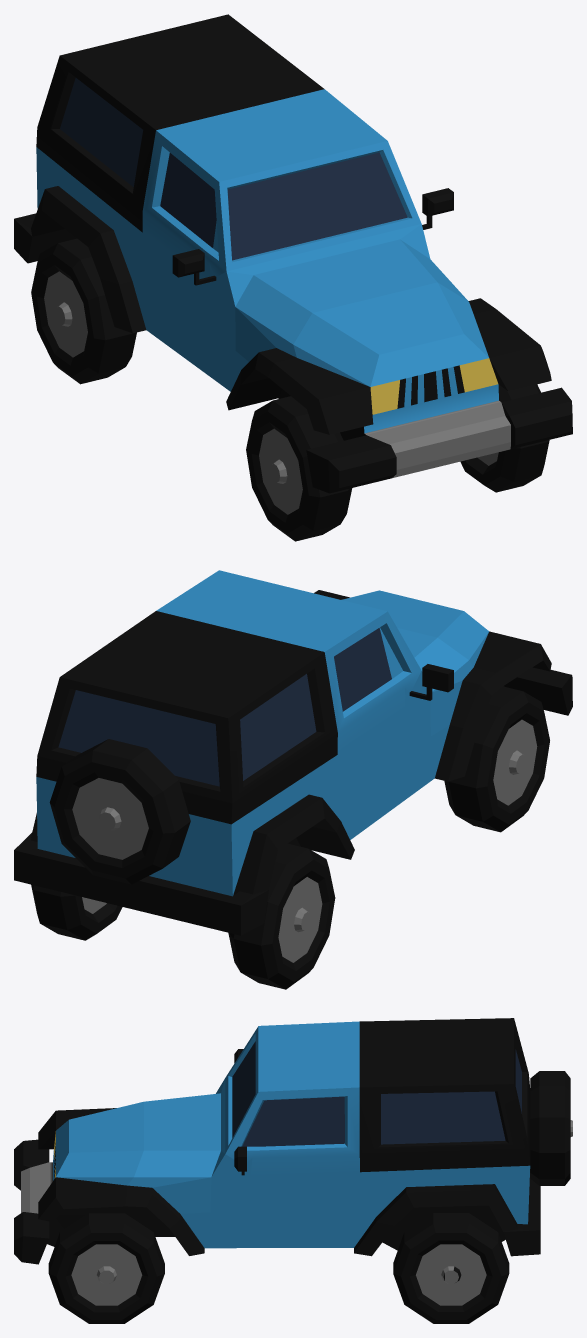
File: jeep.glb
3 views of the same model, one above another, from view 1: azimuth 30°, elevation 25°; view 2: azimuth 150°, elevation 25°; view 3: azimuth 270°, elevation 25° (orthographic). The views are drawn at different scales.
Parts seen in each view (by area): view 1: Jeep_mesh; view 2: Jeep_mesh; view 3: Jeep_mesh.
Boxes of the visible parts, x1=… form: Jeep_mesh: x1=14, y1=14, x2=572, y2=541; Jeep_mesh: x1=14, y1=570, x2=572, y2=989; Jeep_mesh: x1=14, y1=1018, x2=572, y2=1323.
Size of the model in its own units: 11.93 by 11.78 by 26.15.
